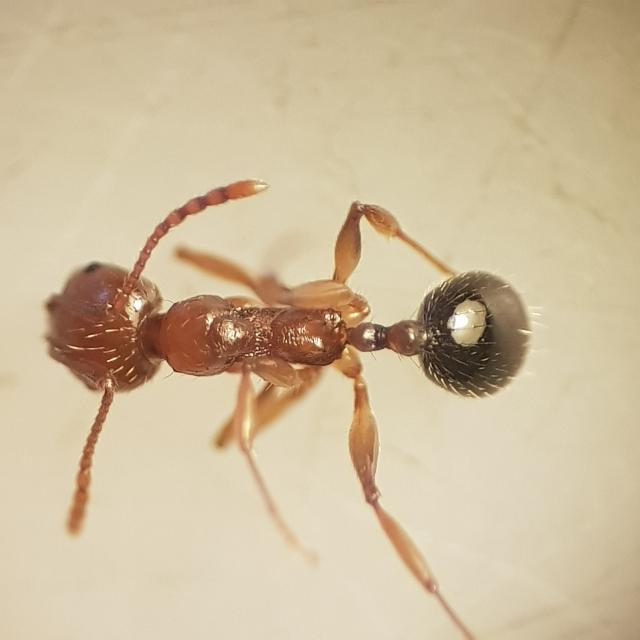Apheanogaster: (13, 162, 563, 520)
